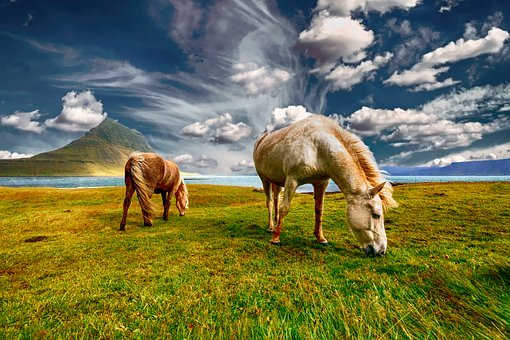field: (1, 188, 507, 336)
sky: (6, 1, 504, 169)
